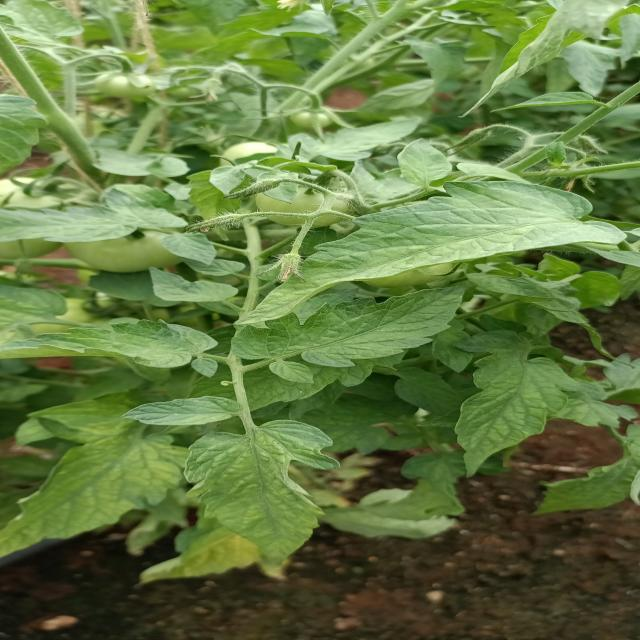Healthy Leaf: (207, 170, 630, 328), (168, 430, 366, 580), (233, 288, 474, 373), (450, 346, 580, 482), (6, 316, 206, 381), (118, 393, 257, 426)
